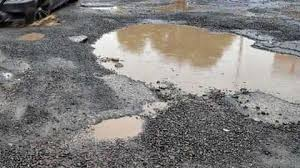potholes: (35, 16, 300, 147)
